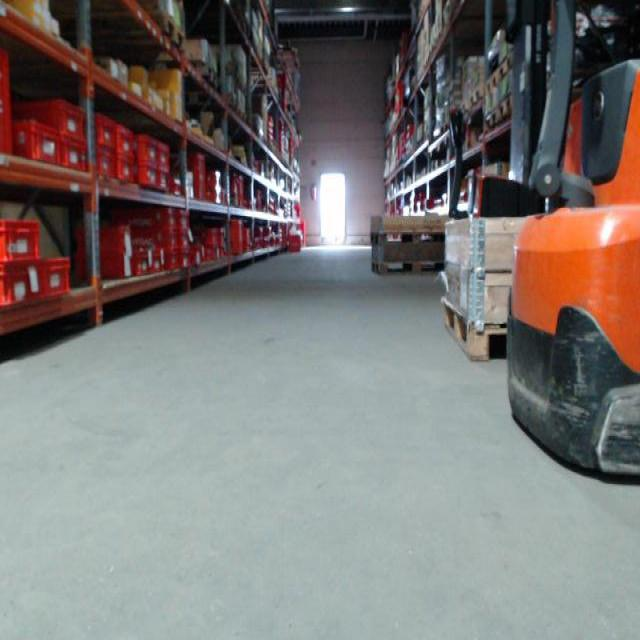pallet: (441, 300, 509, 364), (370, 259, 446, 277), (369, 231, 447, 246), (497, 51, 514, 85), (499, 93, 515, 128), (484, 103, 499, 134), (468, 83, 484, 109), (484, 69, 497, 99)
pallet_truck: (501, 2, 638, 489), (436, 105, 531, 221)
small_load_carrier: (23, 99, 87, 142), (12, 118, 60, 173), (1, 219, 47, 265), (33, 255, 70, 309), (1, 265, 38, 315), (94, 220, 135, 258), (85, 111, 121, 153), (92, 253, 128, 291), (132, 248, 164, 288), (57, 139, 89, 174), (96, 148, 118, 188), (132, 137, 162, 166), (123, 253, 152, 283), (2, 109, 18, 160), (116, 126, 137, 164), (114, 159, 137, 187), (138, 165, 159, 194), (2, 50, 13, 105), (198, 224, 222, 245), (154, 205, 177, 226), (160, 221, 176, 251), (168, 174, 184, 201), (204, 169, 226, 188), (158, 173, 173, 196), (177, 229, 190, 254), (164, 251, 178, 274), (159, 146, 173, 168), (188, 158, 207, 174), (208, 245, 225, 262), (192, 243, 202, 270), (176, 203, 188, 224), (207, 190, 222, 205), (189, 174, 204, 187), (194, 189, 206, 203), (180, 253, 185, 275)
